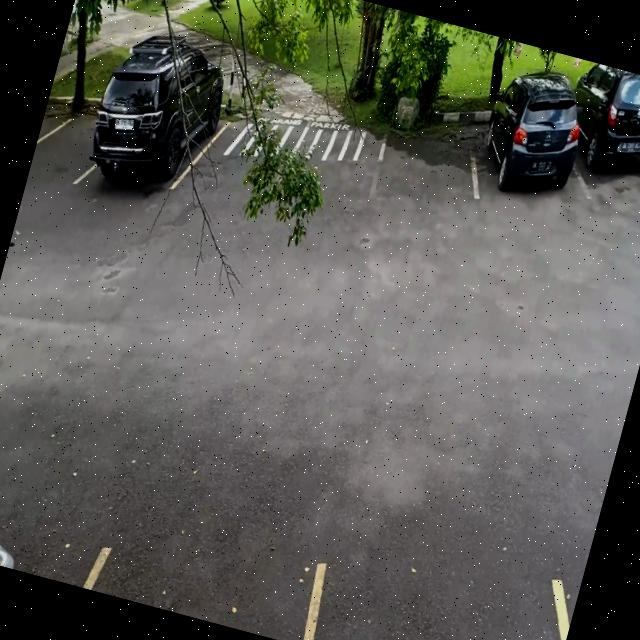empty: (371, 96, 492, 222), (32, 98, 104, 188)
occupied: (81, 48, 226, 205), (468, 86, 588, 210), (567, 63, 640, 206)
